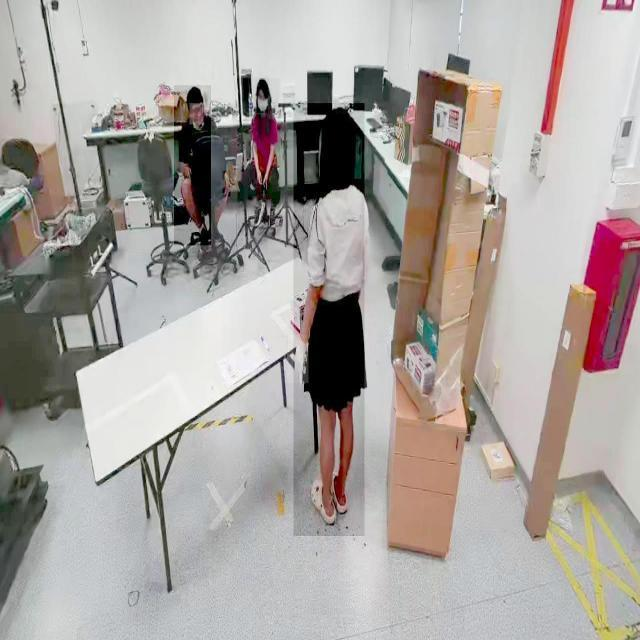gloves: (288, 335, 309, 384)
